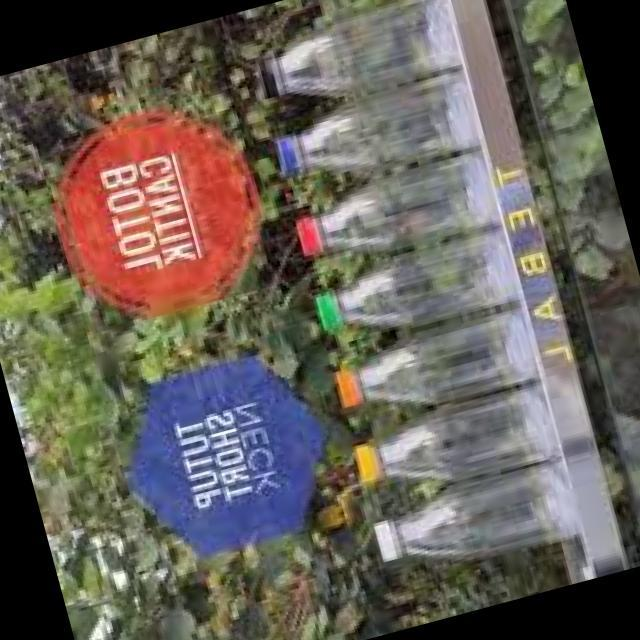good: (278, 128, 519, 288), (350, 450, 597, 594), (338, 377, 587, 515), (224, 0, 475, 135), (293, 220, 535, 358), (255, 66, 491, 204), (325, 295, 562, 430)
